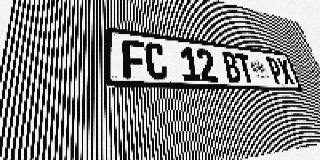1: (178, 46, 202, 81)
2: (195, 48, 218, 82)
B: (221, 51, 243, 83)
C: (144, 42, 169, 80)
F: (122, 39, 147, 79)
P: (265, 57, 285, 84)
T: (235, 53, 256, 83)
X: (276, 58, 295, 85)
